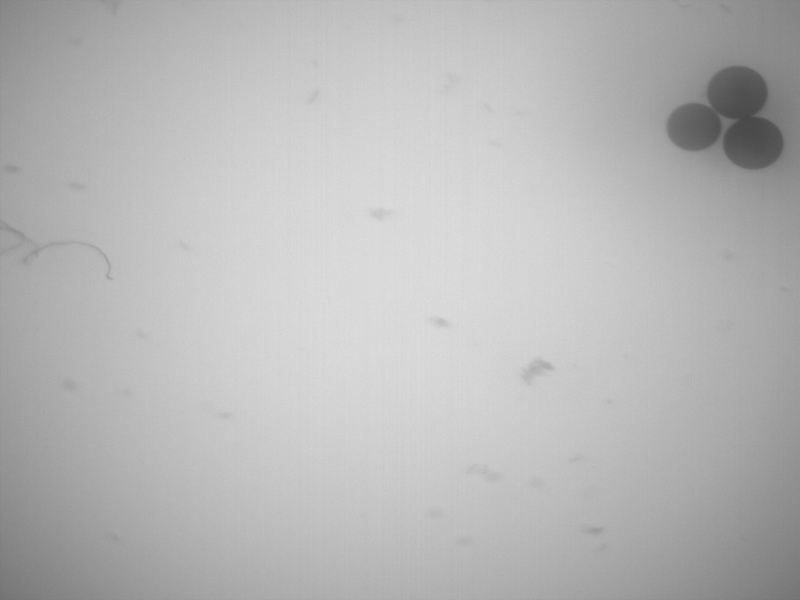bead: (720, 112, 784, 171), (706, 65, 770, 119), (664, 98, 724, 154)
fiber: (19, 238, 118, 283), (1, 216, 40, 259)
